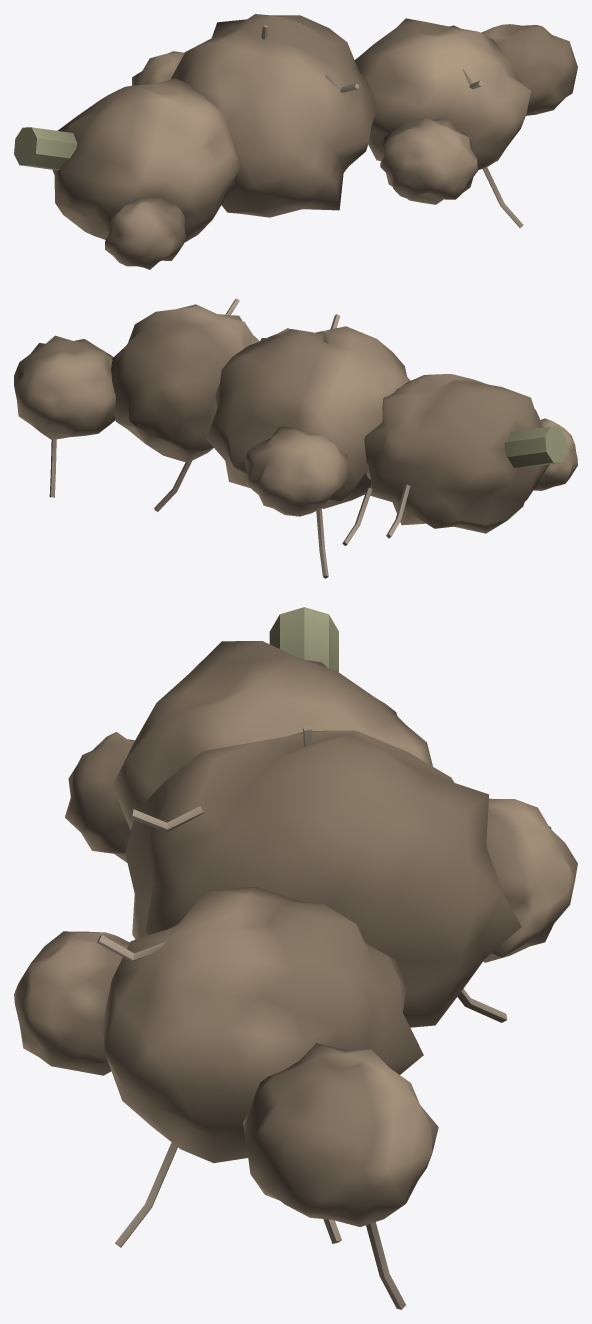
The model's file is wild-tuber.glb.
The picture shows the model from 3 angles, top to bottom: view 1: azimuth 30°, elevation 25°; view 2: azimuth 150°, elevation 25°; view 3: azimuth 270°, elevation 25°; orthographic projection. The views are drawn at different scales.
Visible parts, largest first — view 1: Body_lod0; view 2: Body_lod0; view 3: Body_lod0.
Boxes of the visible parts, left/top/right/bottom form: Body_lod0: left=14, top=14, right=577, bottom=269; Body_lod0: left=14, top=298, right=577, bottom=578; Body_lod0: left=14, top=607, right=577, bottom=1309.
Size of what is drawn, in the model's own units: 0.1882 by 0.0722 by 0.0975.
